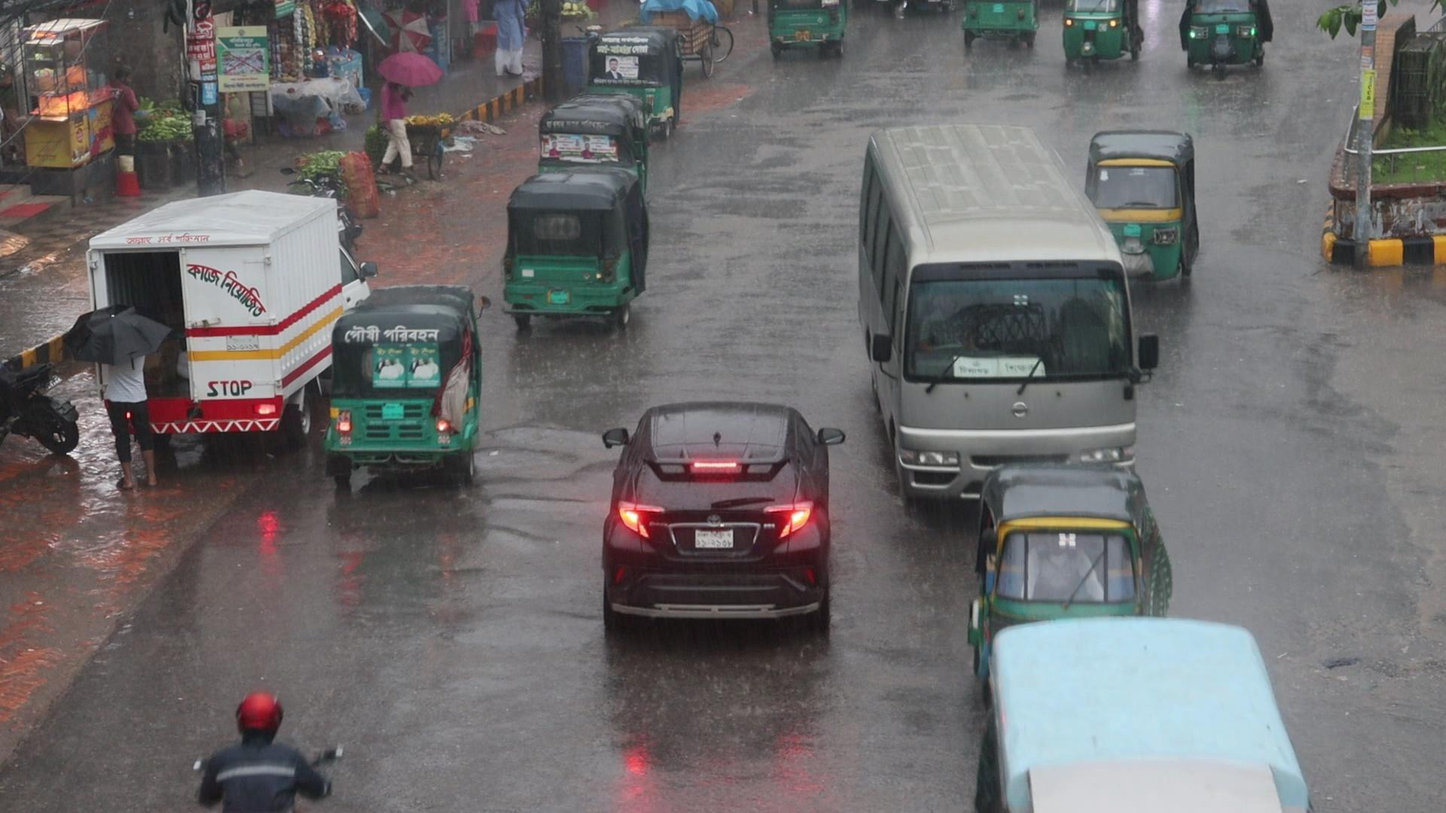Bus: (857, 113, 1143, 465)
Car: (596, 393, 848, 664)
